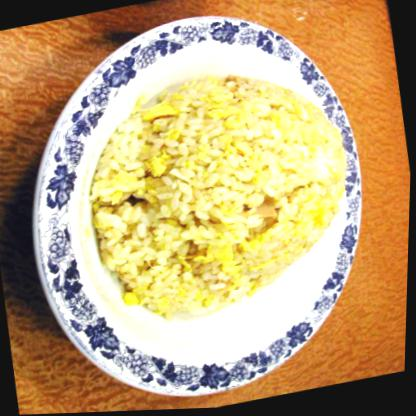fried rice: (78, 62, 368, 321)
